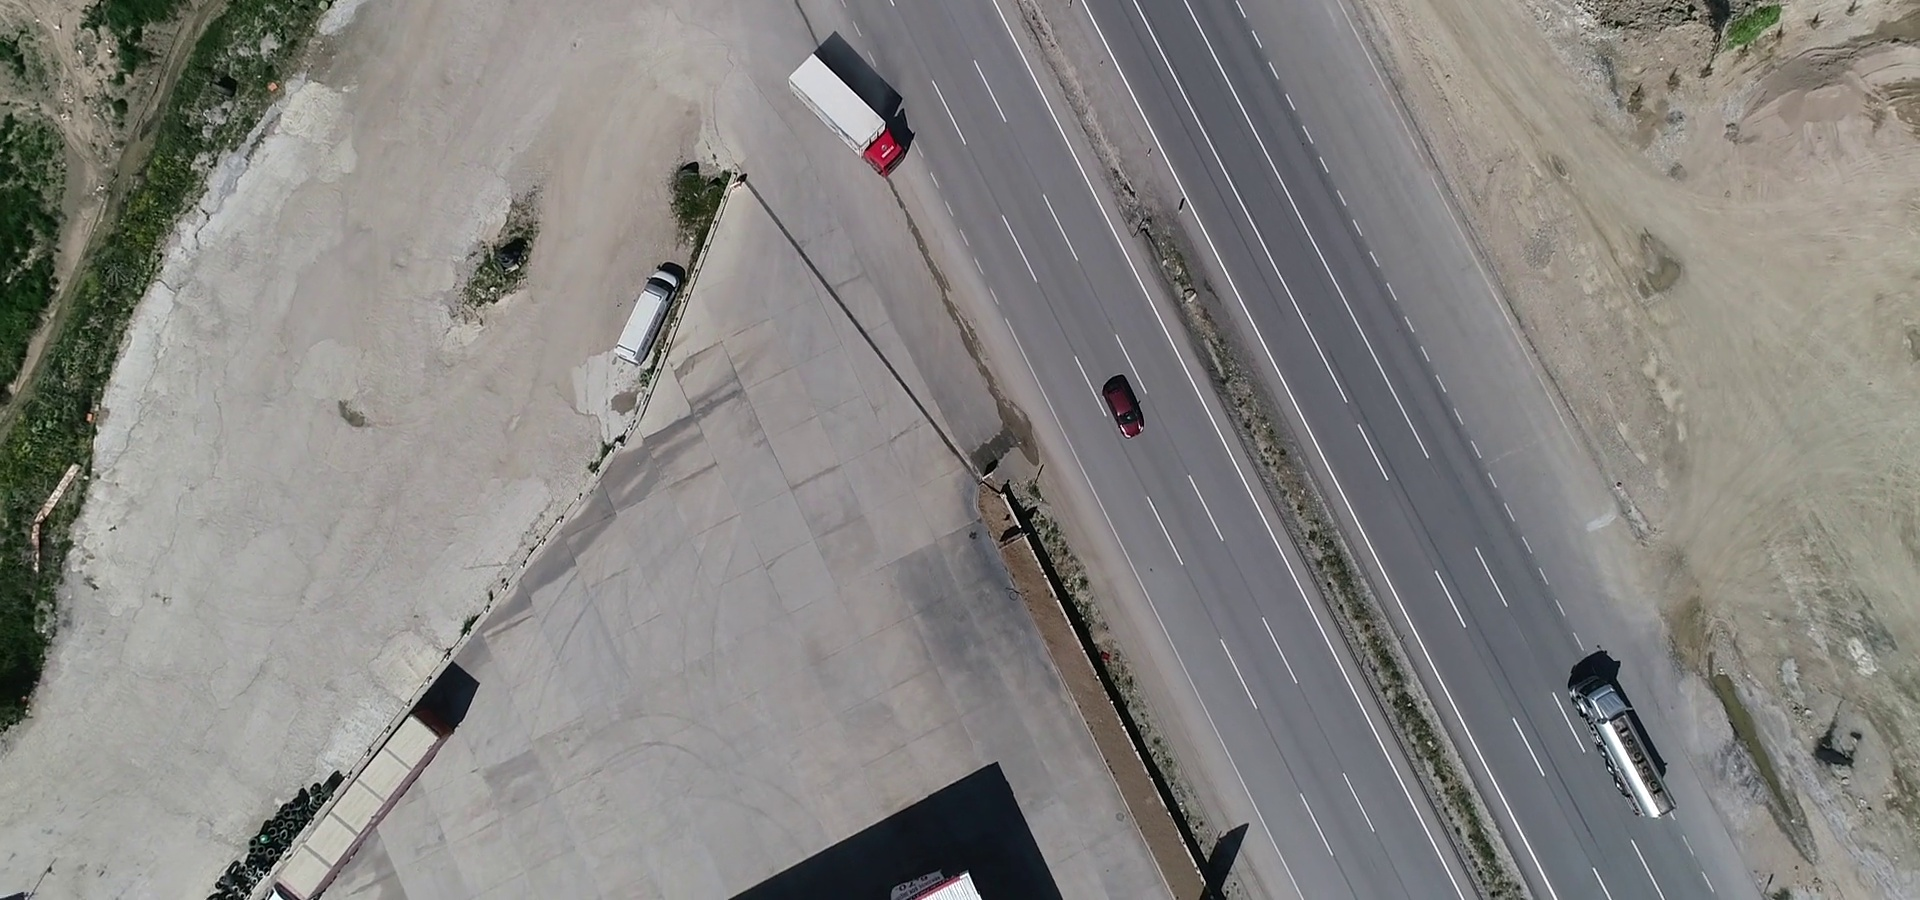arac: (1562, 665, 1682, 828), (782, 47, 916, 182), (609, 258, 687, 376), (1093, 365, 1151, 447)
